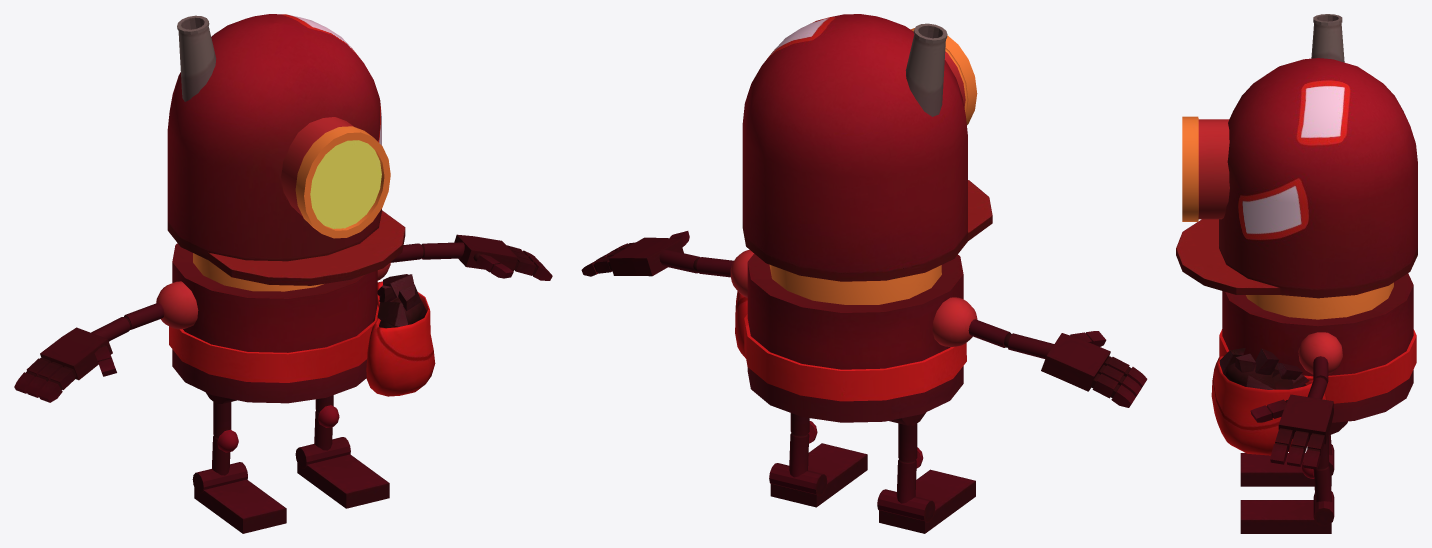
File: Energybots_Coal.fbx
3 views of the same model, side by side, from view 1: azimuth 30°, elevation 25°; view 2: azimuth 150°, elevation 25°; view 3: azimuth 270°, elevation 25° (orthographic). The views are drawn at different scales.
Visible parts, largest first — view 1: GEO_Coalbot_Hat, GEO_Coalbot_Torso, GEO_Coalbot_Legs, GEO_Coalbot_Arms, GEO_Coalbot_Head; view 2: GEO_Coalbot_Hat, GEO_Coalbot_Torso, GEO_Coalbot_Arms, GEO_Coalbot_Legs, GEO_Coalbot_Head; view 3: GEO_Coalbot_Hat, GEO_Coalbot_Torso, GEO_Coalbot_Legs, GEO_Coalbot_Arms, GEO_Coalbot_Head.
Boxes of the visible parts, bbox=[...] form: GEO_Coalbot_Hat: bbox=[167, 14, 405, 285]; GEO_Coalbot_Torso: bbox=[169, 243, 435, 403]; GEO_Coalbot_Legs: bbox=[192, 392, 389, 533]; GEO_Coalbot_Arms: bbox=[14, 234, 552, 402]; GEO_Coalbot_Head: bbox=[193, 253, 323, 291]; GEO_Coalbot_Hat: bbox=[742, 14, 992, 281]; GEO_Coalbot_Torso: bbox=[735, 253, 966, 422]; GEO_Coalbot_Arms: bbox=[581, 231, 1147, 407]; GEO_Coalbot_Legs: bbox=[769, 412, 975, 533]; GEO_Coalbot_Head: bbox=[769, 264, 941, 304]; GEO_Coalbot_Hat: bbox=[1176, 14, 1417, 298]; GEO_Coalbot_Torso: bbox=[1211, 273, 1416, 455]; GEO_Coalbot_Legs: bbox=[1240, 421, 1347, 533]; GEO_Coalbot_Arms: bbox=[1250, 332, 1342, 469]; GEO_Coalbot_Head: bbox=[1246, 282, 1393, 319].
Bounding box in the file's own units: 4.12 × 3.61 × 1.76.
Materials: 1 (1 with a texture image).
